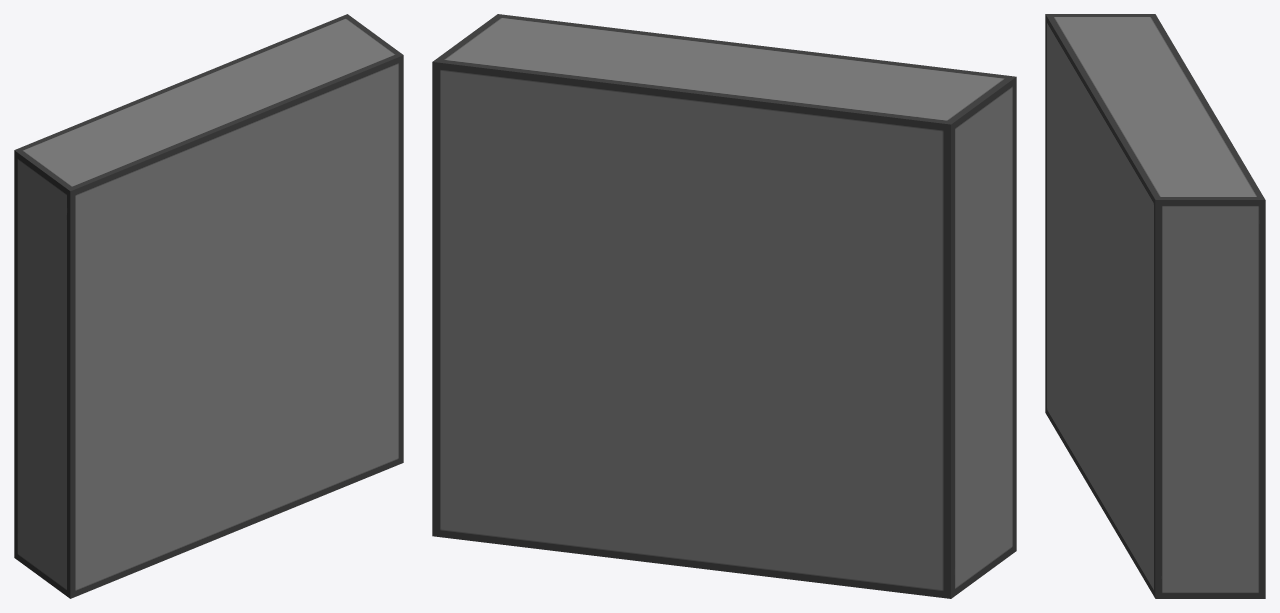
The model's file is doubleramp_8x2.glb.
3 views of the same model, side by side, from view 1: azimuth 30°, elevation 25°; view 2: azimuth 150°, elevation 25°; view 3: azimuth 270°, elevation 25° (orthographic). The views are drawn at different scales.
Visible parts, largest first — view 1: Cube; view 2: Cube; view 3: Cube.
Part boxes in pixels (left/top/right/bottom): Cube: left=14, top=14, right=403, bottom=598; Cube: left=432, top=14, right=1016, bottom=598; Cube: left=1045, top=14, right=1265, bottom=598.
Size of the model in its own units: 8 by 8 by 4.
Materials: 1 (1 with a texture image).
